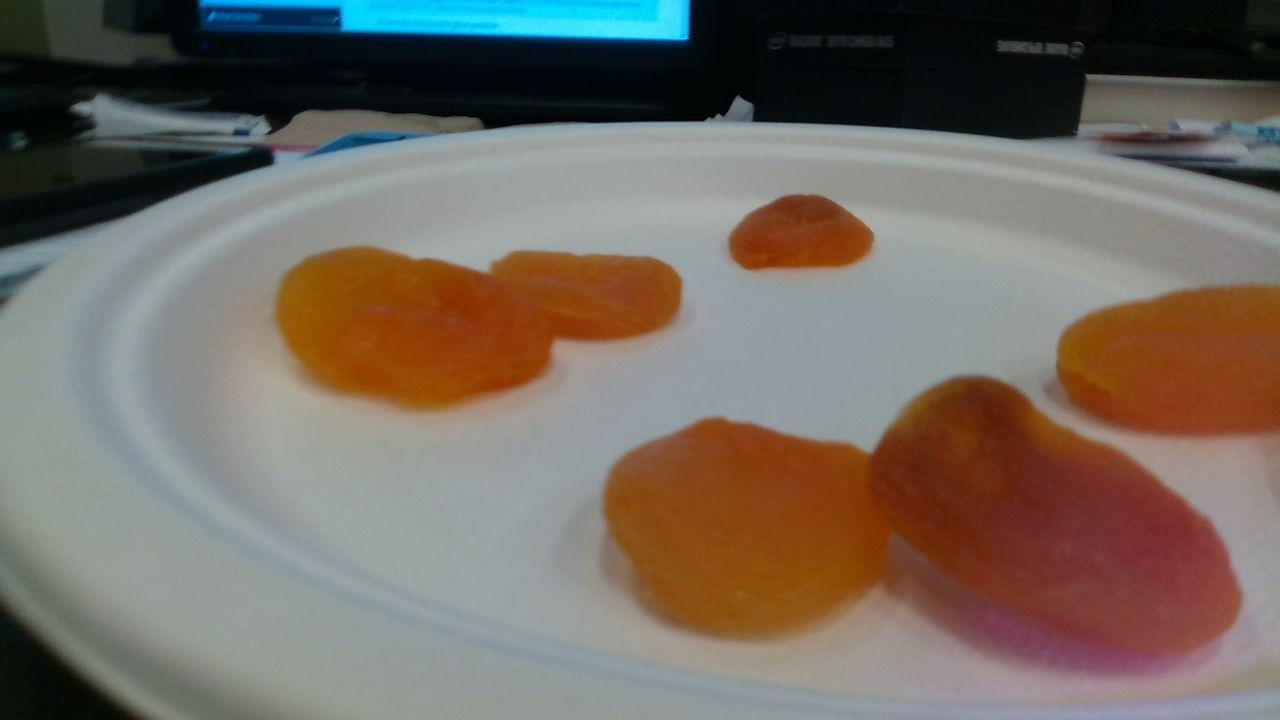apricot: (867, 376, 1240, 653), (605, 417, 892, 633), (279, 247, 554, 402), (492, 250, 682, 340), (731, 195, 874, 268)
